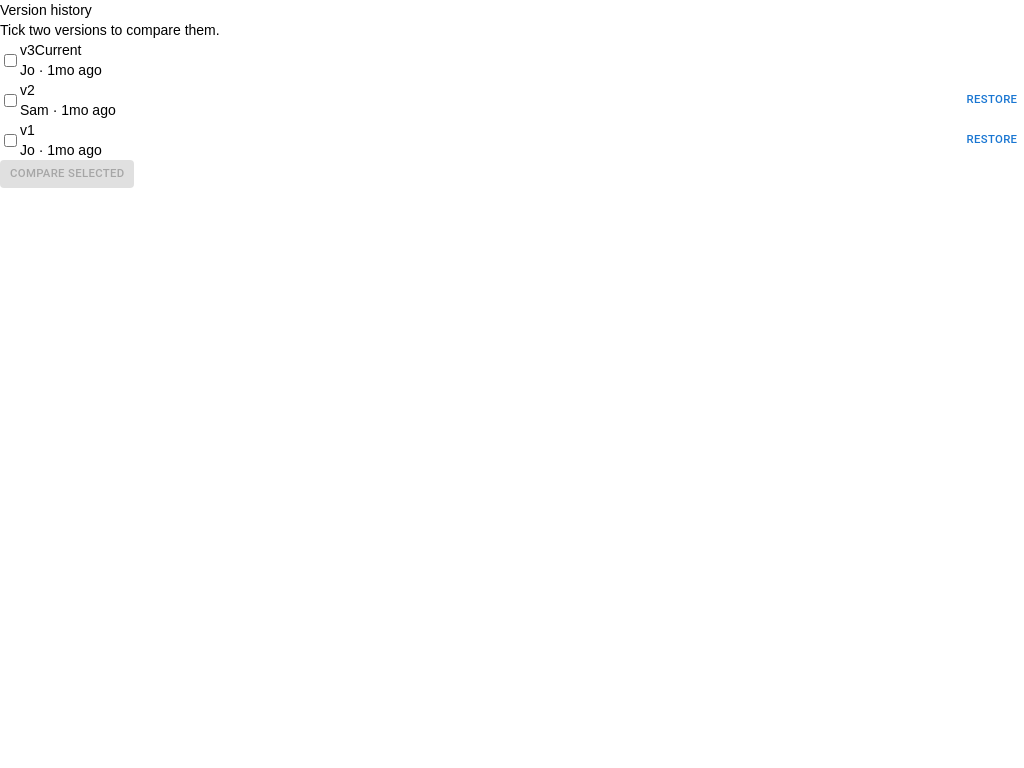
JL-108 restore › confirms first, and says the restore is additive
Expected: the text "v1" is shown, [20,122,35,138]
Click the 2nd button "Restore" at [992, 140], box [960,126,1023,154]
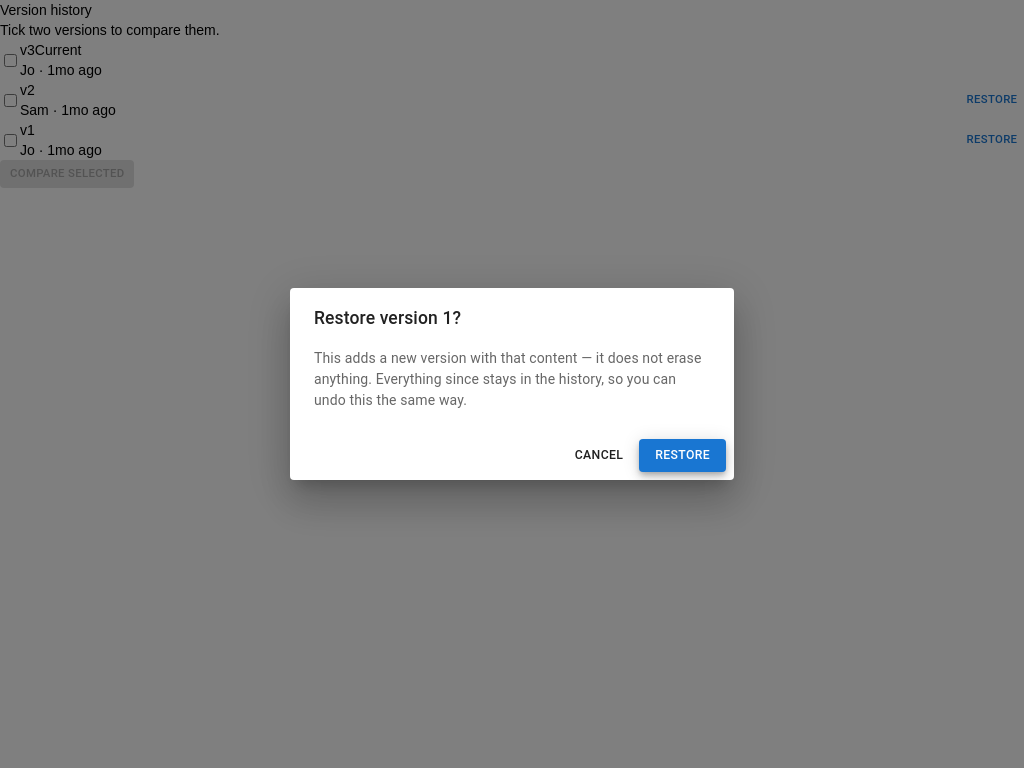
Expected: the text "does not erase anything" is shown, [314,350,702,408]
